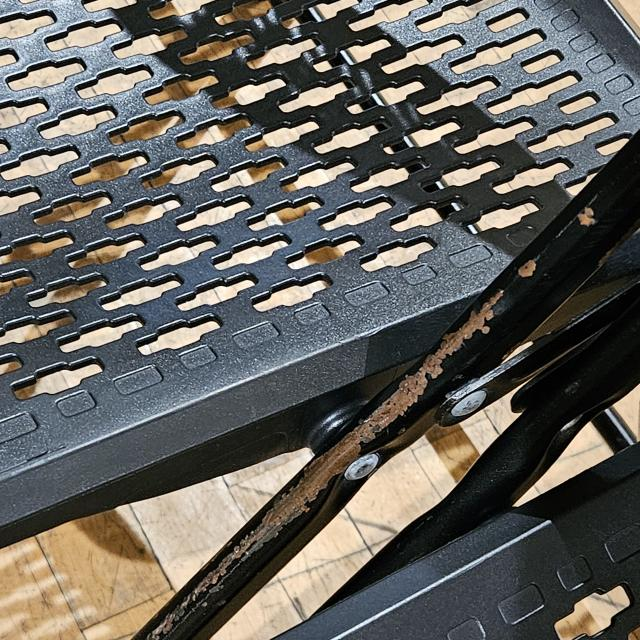Filiform Corrosion: (199, 290, 506, 591), (519, 257, 540, 280), (578, 207, 597, 228)
